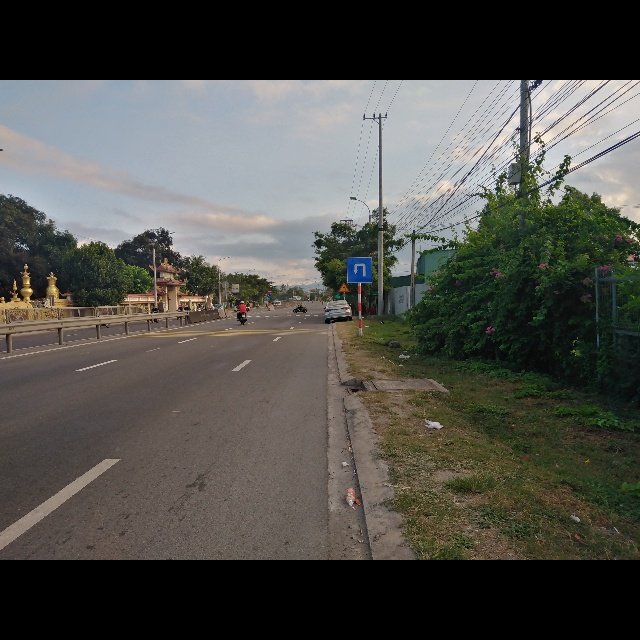Khu vực quay đầu xe: (346, 255, 373, 283)
